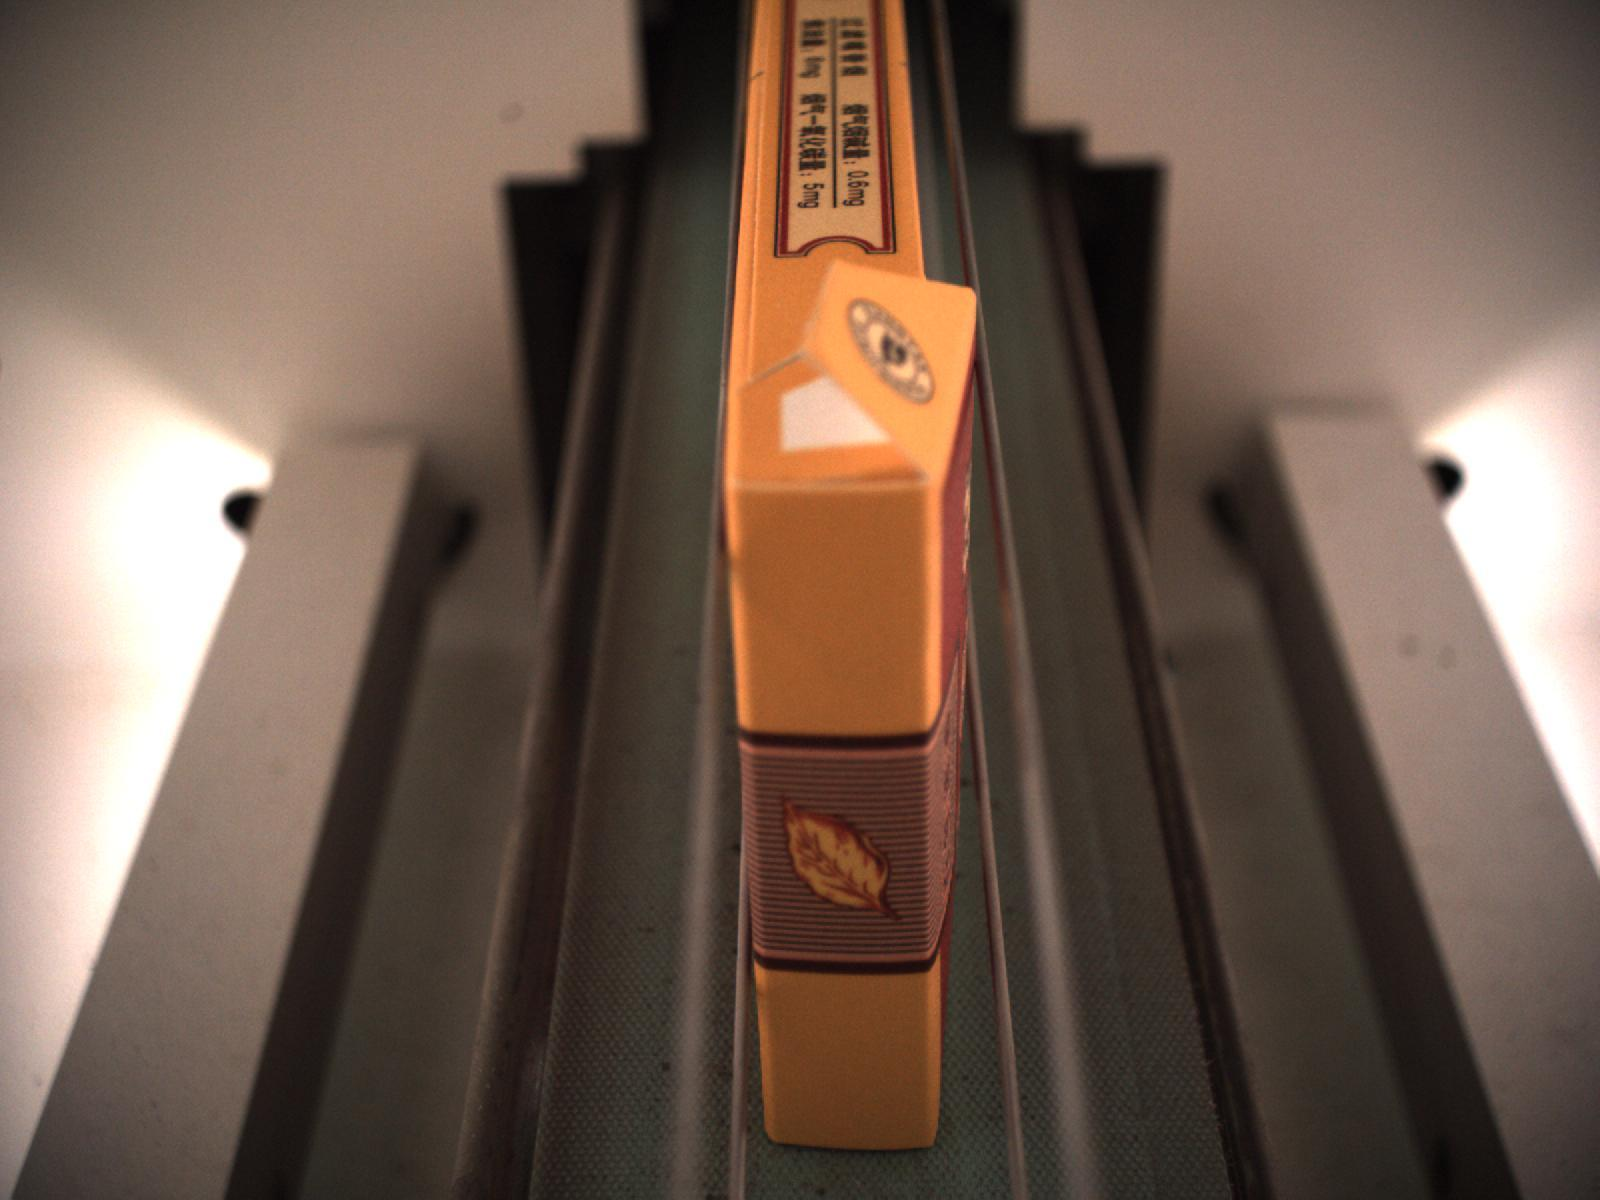headDamage_upper_2: (724, 259, 983, 498)
